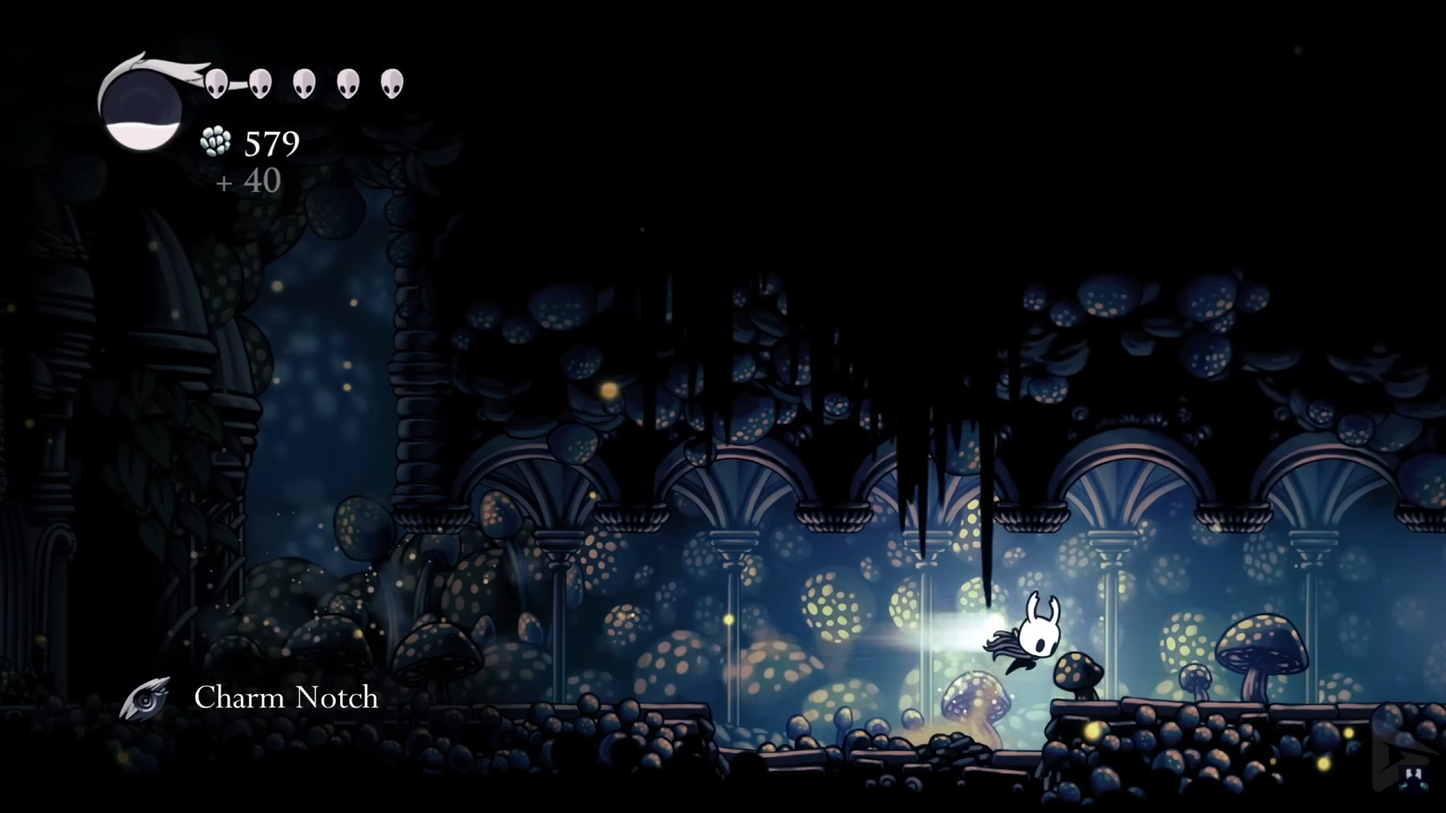HK: (1008, 586, 1066, 699)
